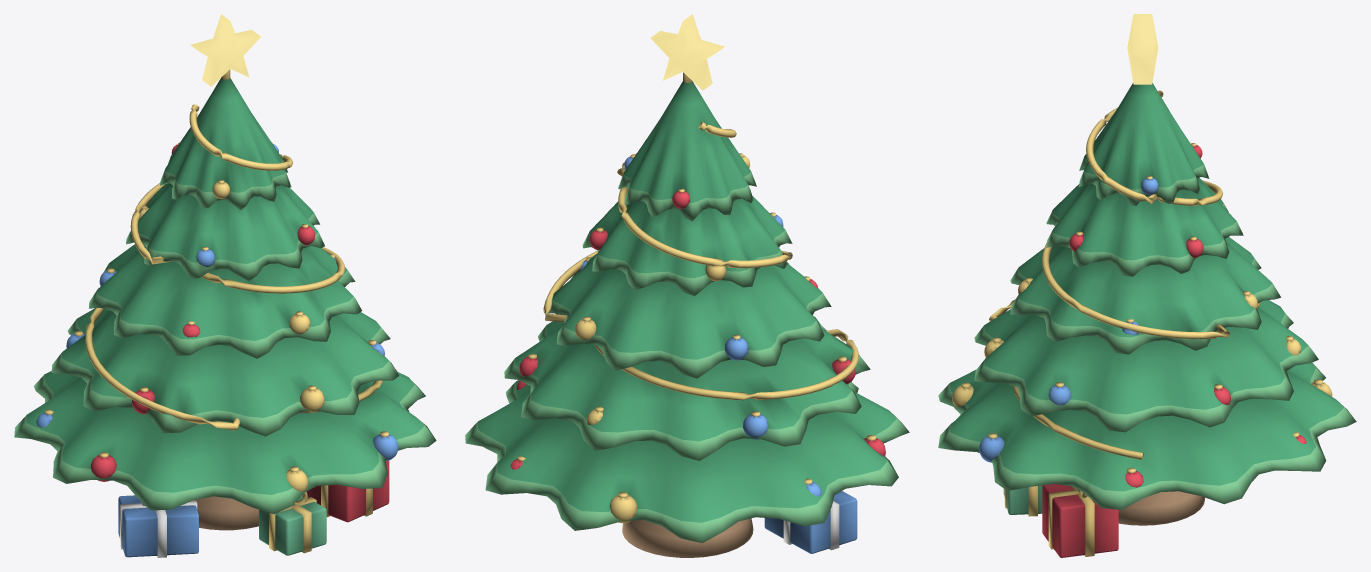
Rendered from xmas.glb.
3 views of the same model, side by side, from view 1: azimuth 30°, elevation 25°; view 2: azimuth 150°, elevation 25°; view 3: azimuth 270°, elevation 25° (orthographic). The views are drawn at different scales.
Parts seen in each view (by area): view 1: XmasTree; view 2: XmasTree; view 3: XmasTree.
Boxes of the visible parts, x1=… form: XmasTree: x1=14, y1=14, x2=436, y2=557; XmasTree: x1=465, y1=14, x2=909, y2=557; XmasTree: x1=938, y1=14, x2=1356, y2=557.
Bounding box in the file's own units: 1.36 × 1.72 × 1.34.
